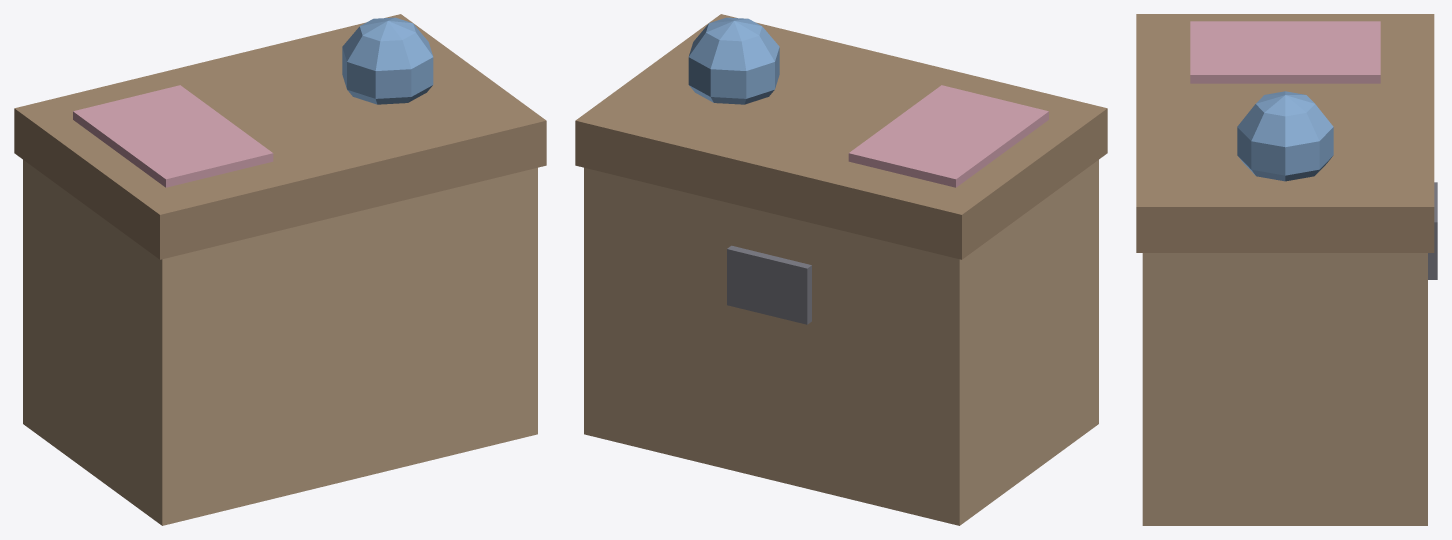
Rendered from kid_bau_inf.glb.
The picture shows the model from 3 angles, left to right: view 1: azimuth 30°, elevation 25°; view 2: azimuth 150°, elevation 25°; view 3: azimuth 270°, elevation 25°; orthographic projection. The views are drawn at different scales.
Parts seen in each view (by area): view 1: KID_BAU_INF_v01; view 2: KID_BAU_INF_v01; view 3: KID_BAU_INF_v01.
Part boxes in pixels (x1,y1,x2,y2): KID_BAU_INF_v01: [14, 14, 546, 525]; KID_BAU_INF_v01: [575, 14, 1107, 525]; KID_BAU_INF_v01: [1136, 14, 1437, 525].
Bounding box in the file's own units: 0.72 × 0.68 × 0.475.
